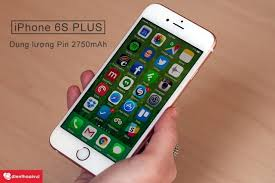iphone: (47, 1, 215, 180)
iphone6: (47, 1, 215, 180)
